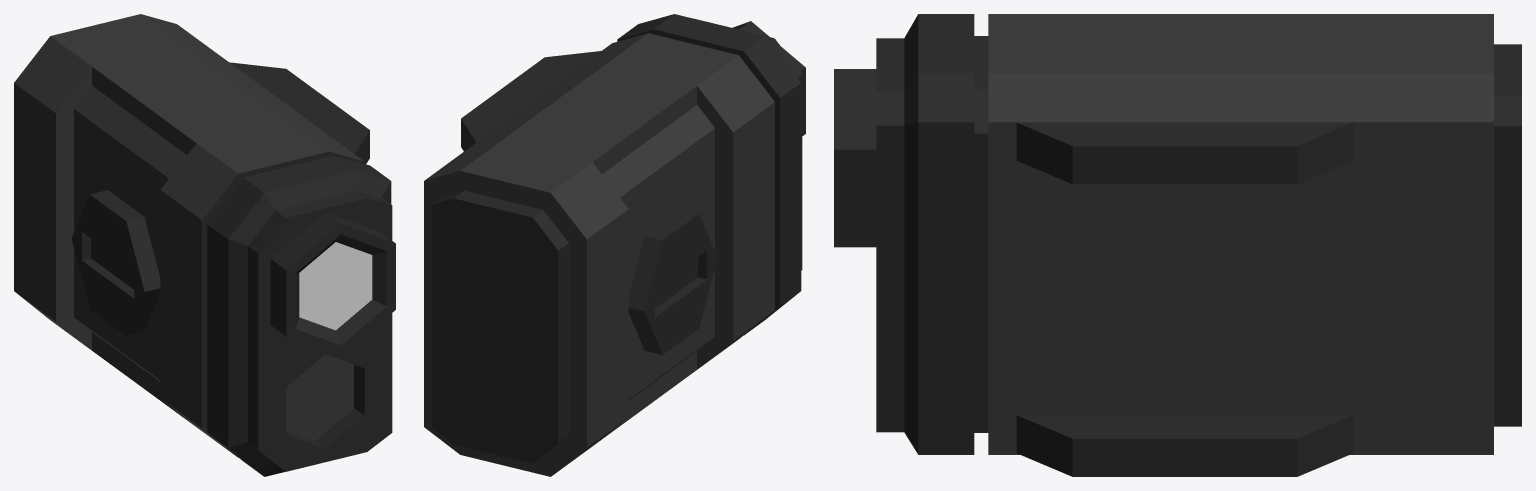
File: Light_C_Right.fbx
The picture shows the model from 3 angles, left to right: view 1: azimuth 30°, elevation 25°; view 2: azimuth 150°, elevation 25°; view 3: azimuth 270°, elevation 25°; orthographic projection. The views are drawn at different scales.
Visible parts, largest first — view 1: Light_C_Right; view 2: Light_C_Right; view 3: Light_C_Right.
Part boxes in pixels (x1,y1,x2,y2): Light_C_Right: [14, 14, 395, 476]; Light_C_Right: [424, 14, 805, 476]; Light_C_Right: [834, 14, 1521, 476].
Size of the model in its own units: 0.0275 by 0.0375 by 0.0613.
